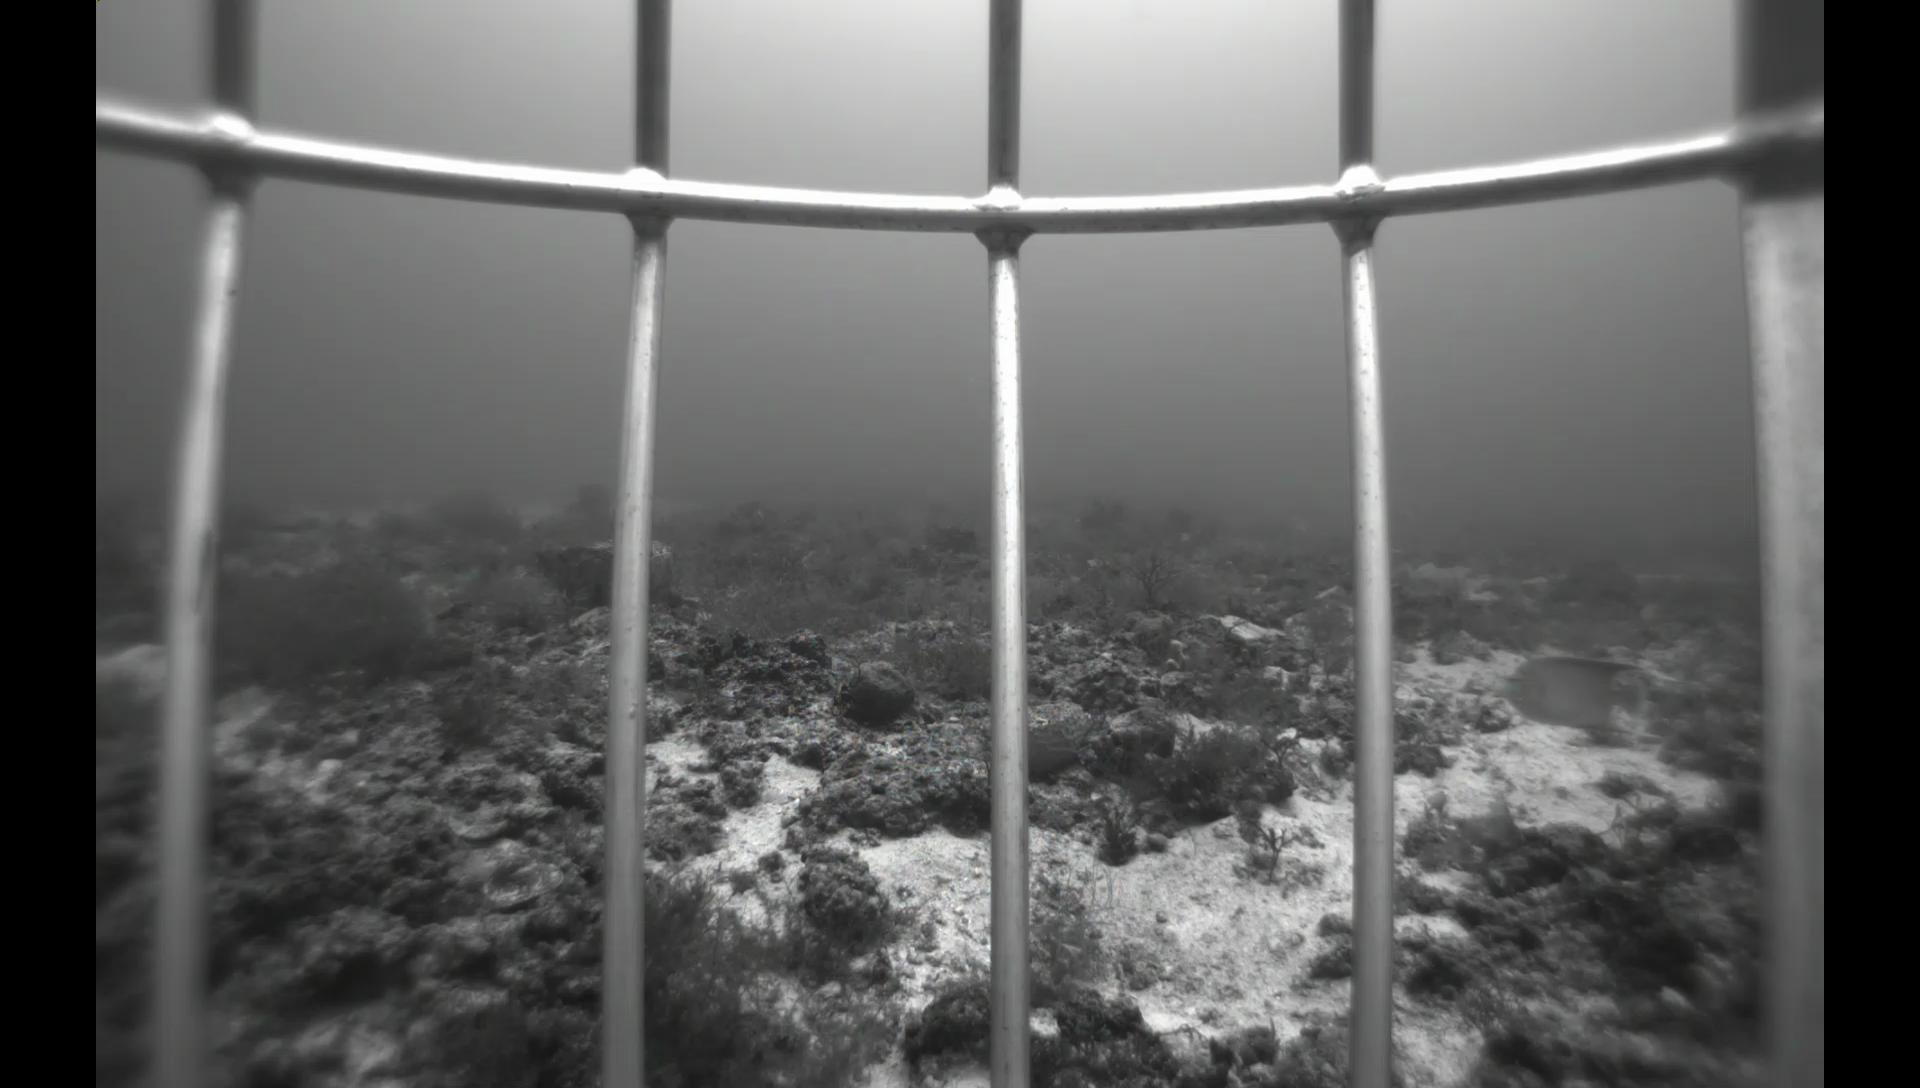HOLACANTHUSBERMUDENSIS-170290102: (1484, 648, 1660, 740)
MYCTEROPERCAPHENAX-170022105: (845, 516, 893, 557)
